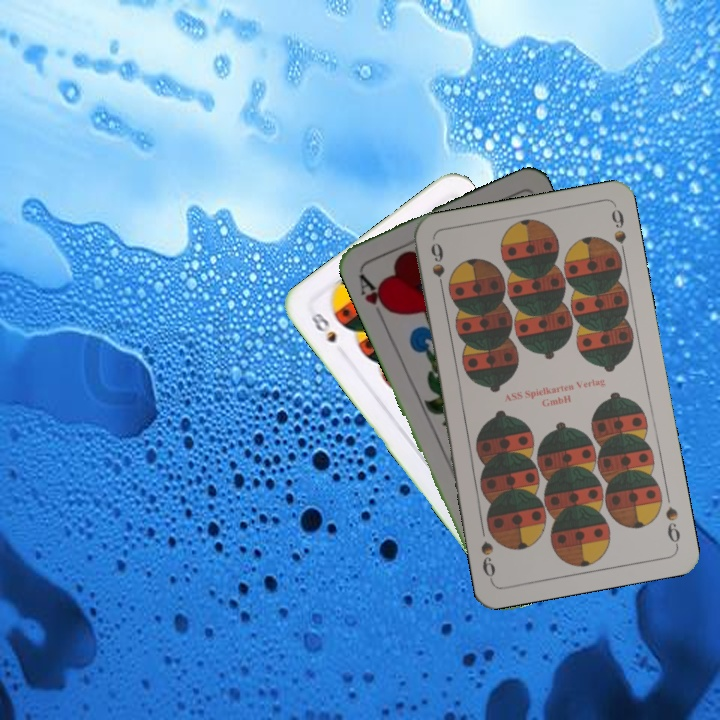HA: (354, 267, 394, 316)
S8: (306, 309, 339, 346)
S9: (426, 238, 448, 297), (661, 502, 683, 549)
